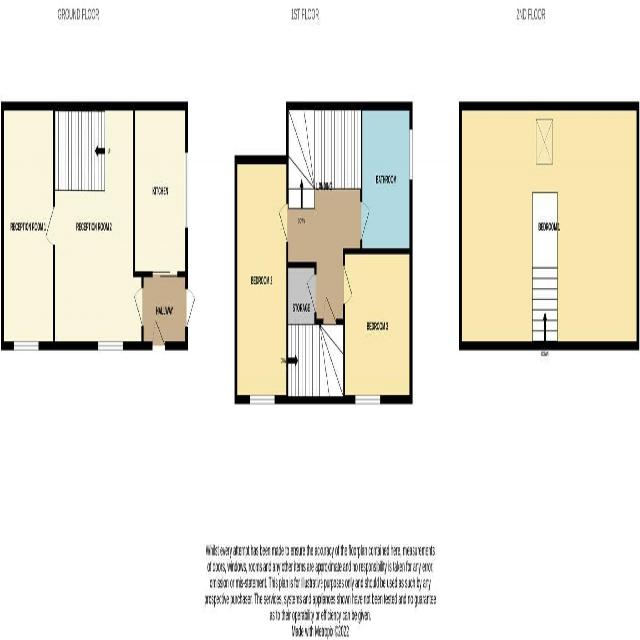DOOR: (44, 201, 57, 250), (185, 285, 196, 337), (342, 260, 353, 307), (277, 200, 289, 241), (133, 283, 144, 326), (360, 199, 371, 241), (322, 292, 336, 324), (152, 317, 165, 350)
ROOM: (459, 100, 640, 351), (53, 101, 144, 351), (133, 101, 198, 351), (1, 101, 55, 352), (234, 155, 288, 405), (342, 247, 412, 404)
WINDOW: (12, 338, 39, 354), (184, 148, 189, 230), (248, 392, 275, 407), (97, 338, 123, 353), (355, 393, 381, 407), (409, 125, 413, 184)
